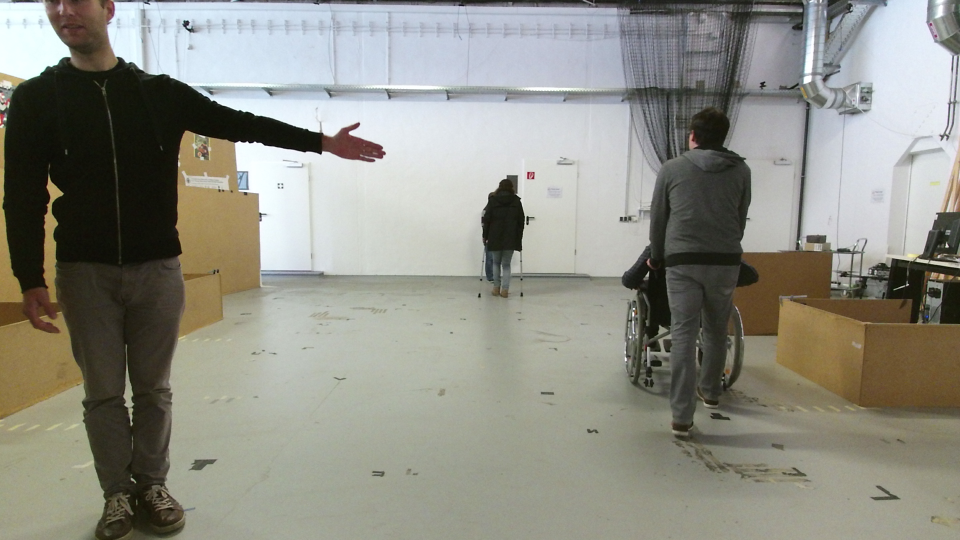crutches: (471, 175, 530, 303)
